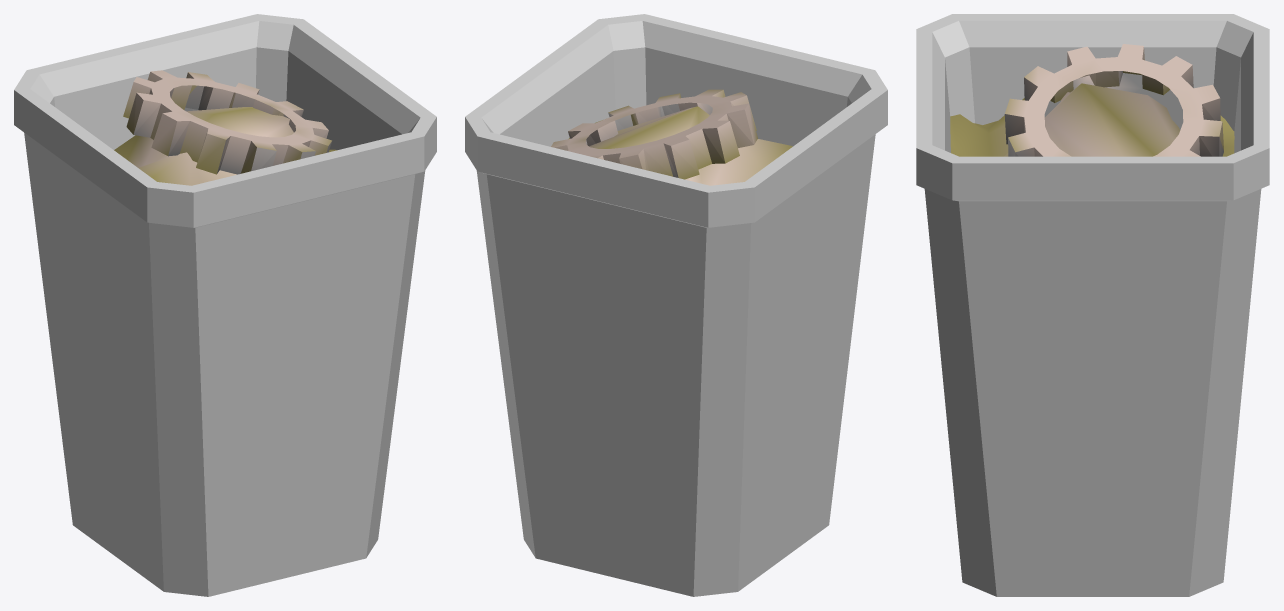
Rendered from SM_TrashBIn_Yellow.fbx.
The picture shows the model from 3 angles, left to right: view 1: azimuth 30°, elevation 25°; view 2: azimuth 150°, elevation 25°; view 3: azimuth 270°, elevation 25°; orthographic projection. The views are drawn at different scales.
Visible parts, largest first — view 1: SM_Bin_Yellow, SM_Trash_Yellow; view 2: SM_Bin_Yellow, SM_Trash_Yellow; view 3: SM_Bin_Yellow, SM_Trash_Yellow.
Boxes of the visible parts, left/top/right/bottom form: SM_Bin_Yellow: left=14, top=14, right=436, bottom=596; SM_Trash_Yellow: left=114, top=70, right=337, bottom=185; SM_Bin_Yellow: left=465, top=14, right=887, bottom=596; SM_Trash_Yellow: left=551, top=89, right=792, bottom=185; SM_Bin_Yellow: left=916, top=14, right=1269, bottom=596; SM_Trash_Yellow: left=950, top=44, right=1234, bottom=156.
Bounding box in the file's own units: 71.13 × 103 × 71.13.
